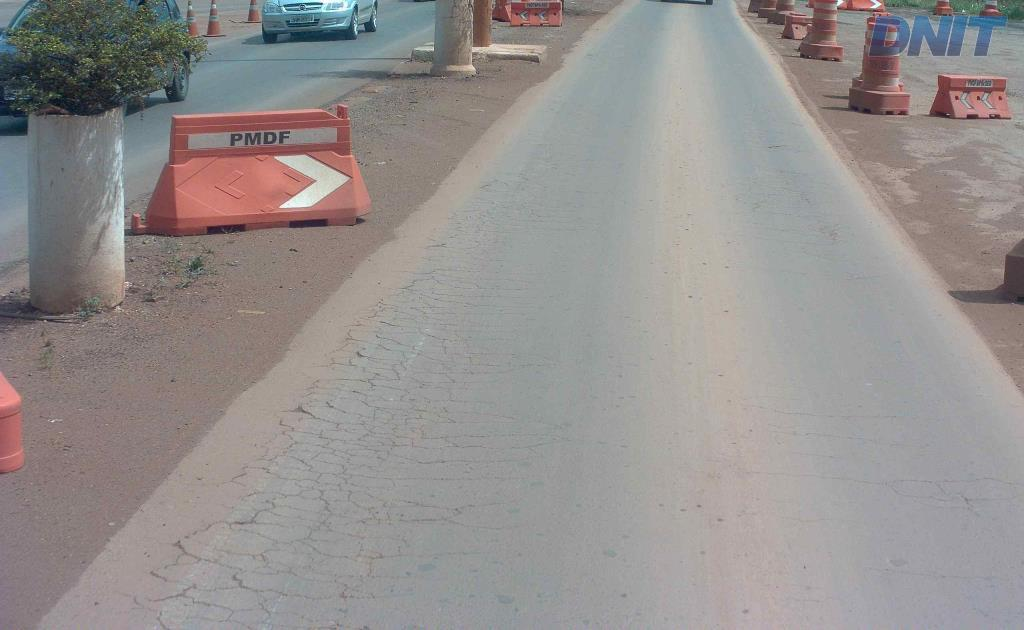crack: (282, 471, 348, 559), (143, 583, 245, 626), (341, 528, 408, 581), (163, 535, 246, 574), (183, 507, 280, 539)
